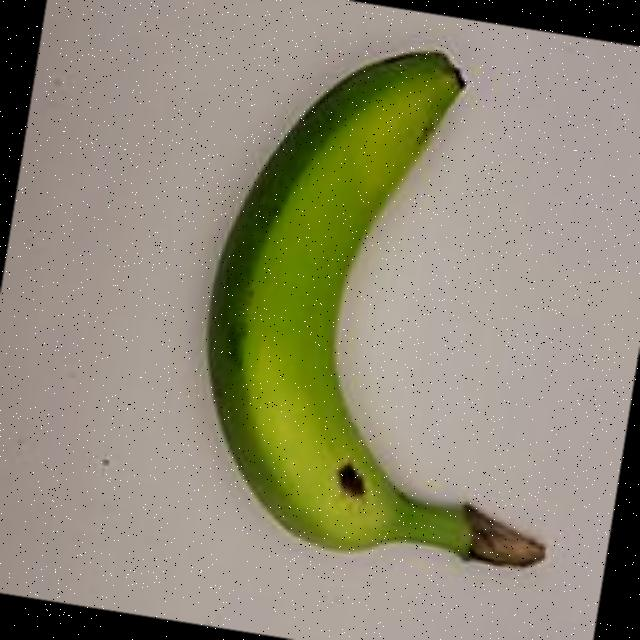Unripe: (160, 15, 636, 608)
